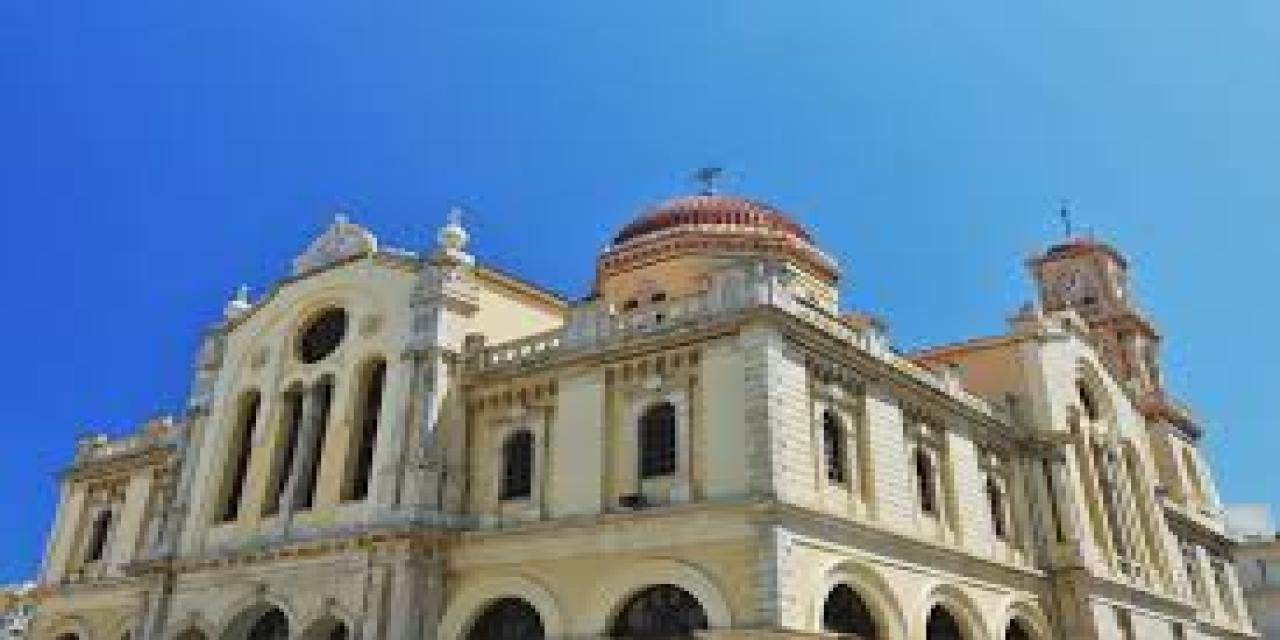Agios Minas: (20, 145, 1265, 640)
